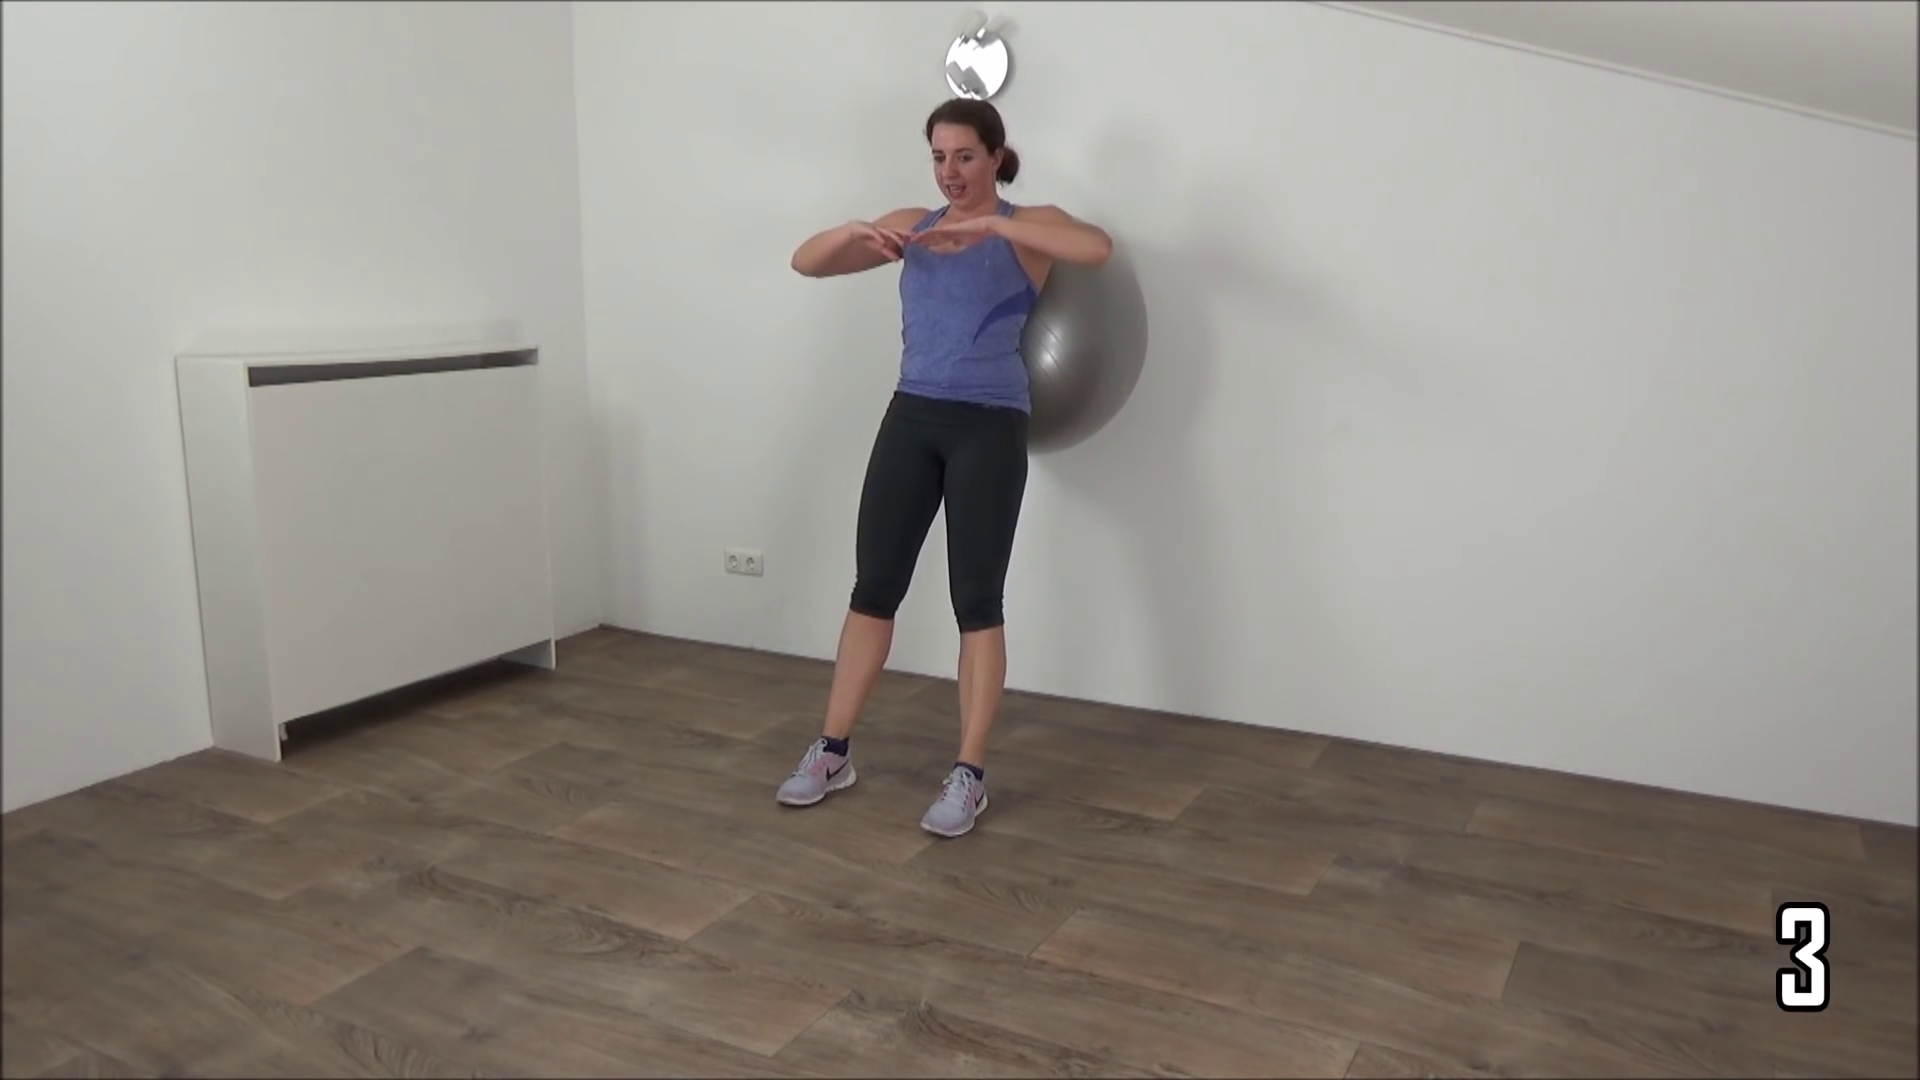yogaball: (945, 211, 1160, 473)
